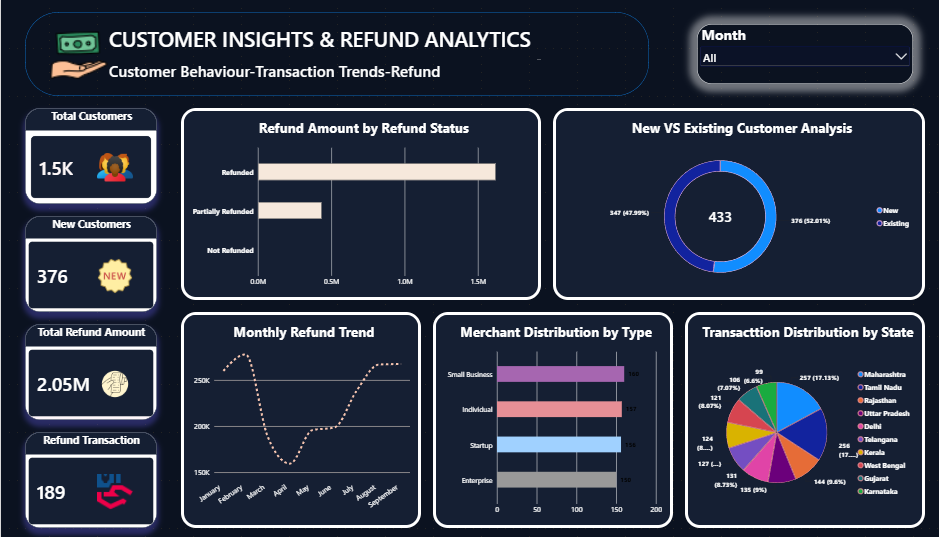

This screenshot's page, from the dashboard's own definition file:
{"tool":"powerbi","page":{"name":"Customer Behaviour & Refund Analytics ","canvas":[1920,1080],"ordinal":2},"visuals":[{"type":"cardVisual","title":"Total Customers","fields":{"Data":["CountNonNull(razorpay_analytics razorpay_working_dataset.Customer_ID)"]},"box":[48,216,264,192],"z":0},{"type":"cardVisual","title":"New Customers","fields":{"Data":["Count(razorpay_analytics razorpay_working_dataset.Customer_ID)"]},"box":[48,432,264,192],"z":1000},{"type":"cardVisual","title":"Total Refund Amount","fields":{"Data":["Sum(razorpay_analytics razorpay_working_dataset.Refund_Amount)"]},"box":[48,648,264,192],"z":3000},{"type":"cardVisual","title":"Refund Transaction","fields":{"Data":["CountNonNull(razorpay_analytics razorpay_working_dataset.Transaction_ID)"]},"box":[48,864,264,192],"z":4000},{"type":"donutChart","title":"New VS Existing Customer Analysis","fields":{"Category":["razorpay_analytics razorpay_working_dataset.Customer_Type"],"Y":["Count(razorpay_analytics razorpay_working_dataset.Customer_ID)"]},"box":[1104,216,744,384],"z":6000},{"type":"clusteredBarChart","title":"Merchant Distribution by Type","fields":{"Category":["razorpay_analytics razorpay_working_dataset.Merchant_Type"],"Y":["Count(razorpay_analytics razorpay_working_dataset.Merchant_ID)"]},"box":[864,624,480,432],"z":9000},{"type":"barChart","title":"Refund Amount by Refund Status ","fields":{"Category":["razorpay_analytics razorpay_working_dataset.Refund_Status"],"Y":["Sum(razorpay_analytics razorpay_working_dataset.Refund_Amount)"]},"box":[360,216,720,384],"z":10000},{"type":"lineChart","title":"Monthly Refund Trend","fields":{"Category":["razorpay_analytics razorpay_working_dataset.Transaction_Date.Variation.Date Hierarchy.Month"],"Y":["Sum(razorpay_analytics razorpay_working_dataset.Refund_Amount)"]},"box":[360,624,480,432],"z":11000},{"type":"pieChart","title":"Transacttion Distribution by State","fields":{"Category":["razorpay_analytics razorpay_working_dataset.State"],"Y":["CountNonNull(razorpay_analytics razorpay_working_dataset.Transaction_ID)"]},"box":[1368,624,480,432],"z":12000},{"type":"textbox","title":"CUSTOMER INSIGHTS & REFUND ANALYTICS","box":[216,48,864,72],"z":13001},{"type":"textbox","title":"Customer Behaviour-Transaction Trends-Refund Performance","box":[216,120,696,48],"z":13002},{"type":"shape","box":[48,24,1248,168],"z":13003},{"type":"image","box":[192,504,72,96],"z":13004},{"type":"image","box":[96,48,120,120],"z":13005},{"type":"slicer","fields":{"Values":["razorpay_analytics razorpay_working_dataset.Transaction_Date.Variation.Date Hierarchy.Month"]},"box":[1392,48,432,120],"z":13006},{"type":"image","box":[192,720,72,96],"z":13007},{"type":"image","box":[192,936,72,96],"z":13008},{"type":"image","box":[192,288,72,96],"z":13009}]}

Visuals, with their boxes in screenshot pixels (x1, y1, x2, y2), scaled from the page's 1920x1080 canvas onto the 939x537 screenshot:
"Total Customers" cardVisual: <region>23, 107, 153, 203</region>
"New Customers" cardVisual: <region>23, 215, 153, 310</region>
"Total Refund Amount" cardVisual: <region>23, 322, 153, 418</region>
"Refund Transaction" cardVisual: <region>23, 430, 153, 525</region>
"New VS Existing Customer Analysis" donutChart: <region>540, 107, 904, 298</region>
"Merchant Distribution by Type" clusteredBarChart: <region>423, 310, 657, 525</region>
"Refund Amount by Refund Status " barChart: <region>176, 107, 528, 298</region>
"Monthly Refund Trend" lineChart: <region>176, 310, 411, 525</region>
"Transacttion Distribution by State" pieChart: <region>669, 310, 904, 525</region>
"CUSTOMER INSIGHTS & REFUND ANALYTICS" textbox: <region>106, 24, 528, 60</region>
"Customer Behaviour-Transaction Trends-Refund Performance" textbox: <region>106, 60, 446, 84</region>
shape: <region>23, 12, 634, 95</region>
image: <region>94, 251, 129, 298</region>
image: <region>47, 24, 106, 84</region>
slicer - razorpay_analytics razorpay_working_dataset.Transaction_Date.Variation.Date Hierarchy.Month: <region>681, 24, 892, 84</region>
image: <region>94, 358, 129, 406</region>
image: <region>94, 465, 129, 513</region>
image: <region>94, 143, 129, 191</region>
